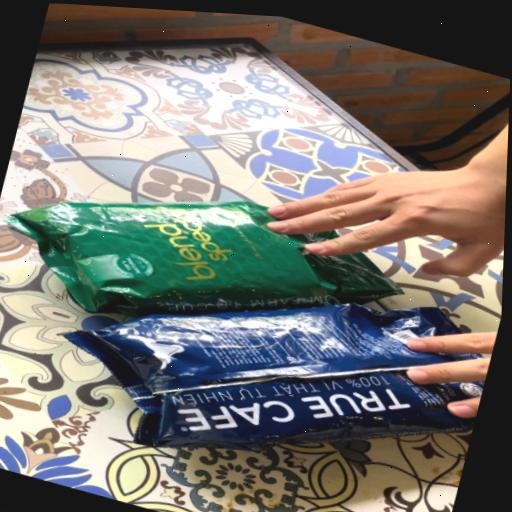cafe_hat: (65, 304, 488, 450)
cafe_xay: (5, 200, 400, 316)
